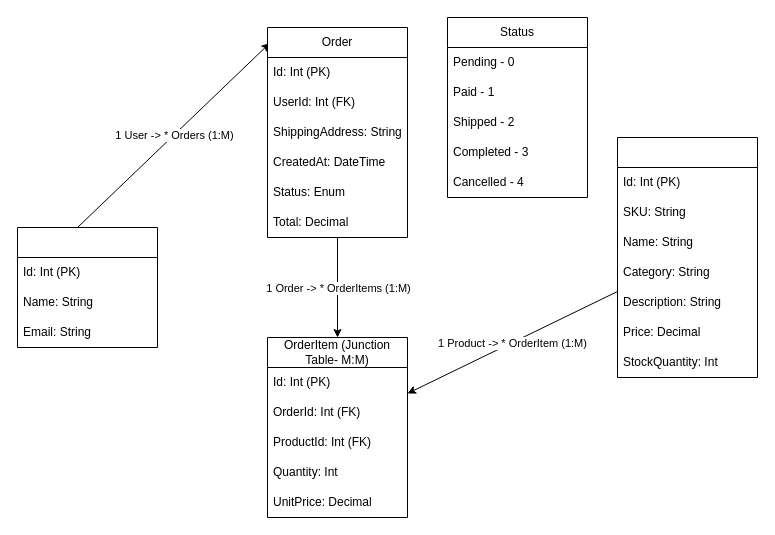
Image size: 775x535. Some labels were removed from this diagram. Here are the shapes that lost their labels. From the top down, the box of each, then its label:
(616, 136, 758, 378): Product
(16, 226, 158, 348): User
